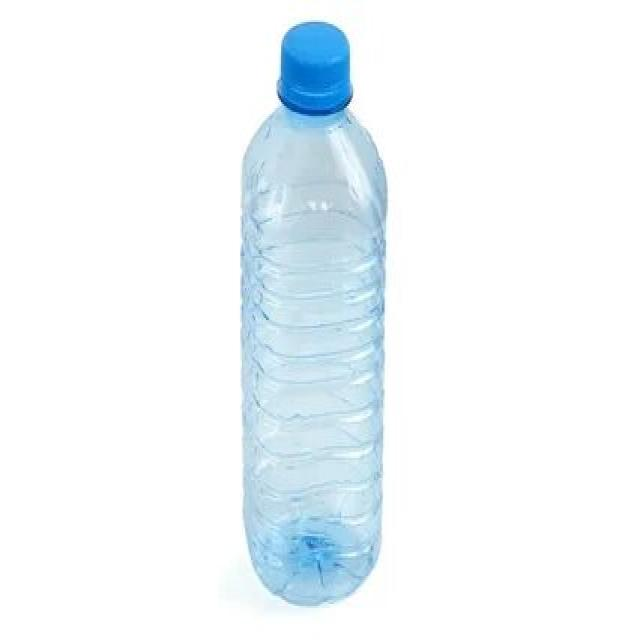blue: (242, 100, 386, 607)
